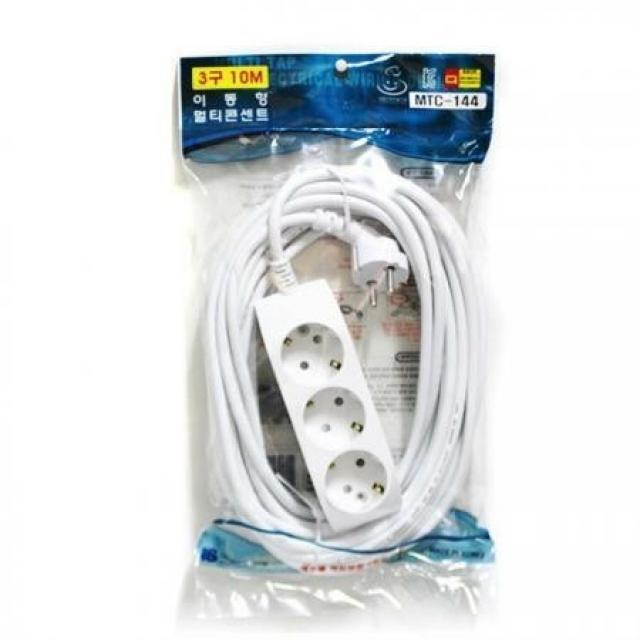typeb: (243, 269, 423, 553)
